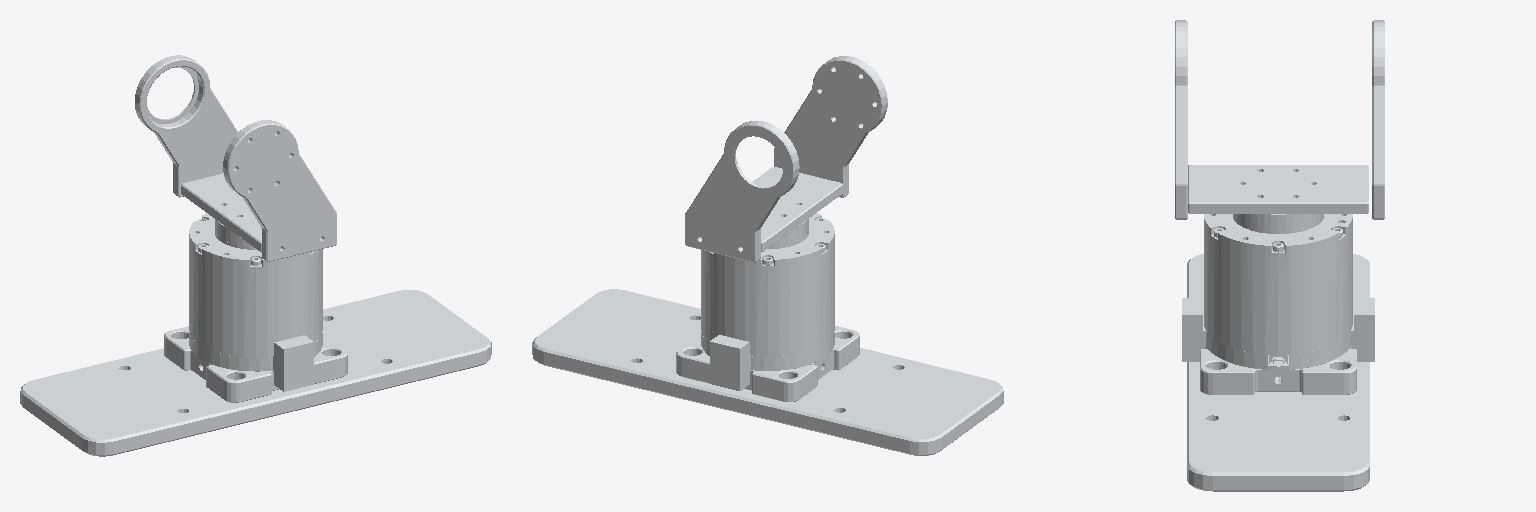
URDF robot description (STEP):
<?xml version="1.0" encoding="utf-8"?>
<!-- This URDF was automatically created by SolidWorks to URDF Exporter! Originally created by [author] ([email redacted]) 
     Commit Version: 1.6.0-1-g15f4949  Build Version: 1.6.7594.29634
     For more information, please see http://wiki.ros.org/sw_urdf_exporter -->
<robot
  name="STEP">
  <link
    name="base_link">
    <inertial>
      <origin
        xyz="-2.286E-05 2.7497E-09 0.01623"
        rpy="0 0 0" />
      <mass
        value="0.50446" />
      <inertia
        ixx="0.00018822"
        ixy="1.8597E-08"
        ixz="-1.3884E-08"
        iyy="0.0010487"
        iyz="5.2358E-12"
        izz="0.0011932" />
    </inertial>
    <visual>
      <origin
        xyz="0 0 0"
        rpy="0 0 0" />
      <geometry>
        <mesh
          filename="package://openeai_arm_urdf_ros2/meshes/base_link.STL" />
      </geometry>
      <material
        name="openeai">
        <color
          rgba="0.89804 0.91765 0.92941 1" />
      </material>
    </visual>
    <collision>
      <origin
        xyz="0 0 0"
        rpy="0 0 0" />
      <geometry>
        <mesh
          filename="package://openeai_arm_urdf_ros2/meshes/base_link.STL" />
      </geometry>
    </collision>
  </link>
  <link
    name="link1">
    <inertial>
      <origin
        xyz="-0.0045469 -0.0028108 -0.030271"
        rpy="0 0 0" />
      <mass
        value="0.419464" />
      <inertia
        ixx="2.8404E-05"
        ixy="1.2197E-08"
        ixz="6.0756E-06"
        iyy="2.686E-05"
        iyz="-2.1814E-08"
        izz="2.493E-05" />
    </inertial>
    <visual>
      <origin
        xyz="0 0 0"
        rpy="0 0 0" />
      <geometry>
        <mesh
          filename="package://openeai_arm_urdf_ros2/meshes/link1.STL" />
      </geometry>
      <material
        name="openeai1">
        <color
          rgba="0.89804 0.91765 0.92941 1" />
      </material>
    </visual>
    <collision>
      <origin
        xyz="0 0 0"
        rpy="0 0 0" />
      <geometry>
        <mesh
          filename="package://openeai_arm_urdf_ros2/meshes/link1.STL" />
      </geometry>
    </collision>
  </link>
  <joint
    name="1"
    type="revolute">
    <origin
      xyz="0 0 0.12371"
      rpy="0 0 0" />
    <parent
      link="base_link" />
    <child
      link="link1" />
    <axis
      xyz="0 0 1" />
    <limit
      lower="-1.57"
      upper="1.57"
      effort="0"
      velocity="0" />
  </joint>
  <link
    name="link2">
    <inertial>
      <origin
        xyz="0.13073 1.5099E-12 0.0027189"
        rpy="0 0 0" />
      <mass
        value="1.5389" />
      <inertia
        ixx="0.00021808"
        ixy="3.8197E-08"
        ixz="-6.9356E-19"
        iyy="0.0010335"
        iyz="-8.1073E-16"
        izz="0.0011036" />
    </inertial>
    <visual>
      <origin
        xyz="0 0 0"
        rpy="0 0 0" />
      <geometry>
        <mesh
          filename="package://openeai_arm_urdf_ros2/meshes/link2.STL" />
      </geometry>
      <material
        name="openeai2">
        <color
          rgba="0.7451 0.7451 0.7451 1" />
      </material>
    </visual>
    <collision>
      <origin
        xyz="0 0 0"
        rpy="0 0 0" />
      <geometry>
        <mesh
          filename="package://openeai_arm_urdf_ros2/meshes/link2.STL" />
      </geometry>
    </collision>
  </link>
  <joint
    name="2"
    type="revolute">
    <origin
      xyz="-0.019 0 0"
      rpy="1.5708 0 3.1416" />
    <parent
      link="link1" />
    <child
      link="link2" />
    <axis
      xyz="0 0 1" />
    <limit
      lower="-0.2"
      upper="3.662"
      effort="0"
      velocity="0" />
  </joint>
  <link
    name="link3">
    <inertial>
      <origin
        xyz="0.1657 0.017535 -0.0016971"
        rpy="0 0 0" />
      <mass
        value="1.01598" />
      <inertia
        ixx="0.00028128"
        ixy="0.00016388"
        ixz="-1.4389E-06"
        iyy="0.00089643"
        iyz="3.8117E-07"
        izz="0.0010603" />
    </inertial>
    <visual>
      <origin
        xyz="0 0 0"
        rpy="0 0 0" />
      <geometry>
        <mesh
          filename="package://openeai_arm_urdf_ros2/meshes/link3.STL" />
      </geometry>
      <material
        name="openeai3">
        <color
          rgba="0.7451 0.7451 0.7451 1" />
      </material>
    </visual>
    <collision>
      <origin
        xyz="0 0 0"
        rpy="0 0 0" />
      <geometry>
        <mesh
          filename="package://openeai_arm_urdf_ros2/meshes/link3.STL" />
      </geometry>
    </collision>
  </link>
  <joint
    name="3"
    type="revolute">
    <origin
      xyz="0.264 0 0"
      rpy="3.1416 0 2.8783" />
    <parent
      link="link2" />
    <child
      link="link3" />
    <axis
      xyz="0 0 1" />
    <limit
      lower="-0.1"
      upper="3.1416"
      effort="0"
      velocity="0" />
  </joint>
  <link
    name="link4">
    <inertial>
      <origin
        xyz="0.052533 0.038815 -0.041806"
        rpy="0 0 0" />
      <mass
        value="0.53515" />
      <inertia
        ixx="7.9691E-05"
        ixy="2.9447E-10"
        ixz="-4.225E-08"
        iyy="9.4211E-05"
        iyz="-6.849E-08"
        izz="6.8988E-05" />
    </inertial>
    <visual>
      <origin
        xyz="0 0 0"
        rpy="0 0 0" />
      <geometry>
        <mesh
          filename="package://openeai_arm_urdf_ros2/meshes/link4.STL" />
      </geometry>
      <material
        name="openeai4">
        <color
          rgba="0.89804 0.91765 0.92941 1" />
      </material>
    </visual>
    <collision>
      <origin
        xyz="0 0 0"
        rpy="0 0 0" />
      <geometry>
        <mesh
          filename="package://openeai_arm_urdf_ros2/meshes/link4.STL" />
      </geometry>
    </collision>
  </link>
  <joint
    name="4"
    type="revolute">
    <origin
      xyz="0.23148 0 0"
      rpy="0 0 -0.26332" />
    <parent
      link="link3" />
    <child
      link="link4" />
    <axis
      xyz="0 0 1" />
    <limit
      lower="-1.5708"
      upper="1.5708"
      effort="0"
      velocity="0" />
  </joint>
  <link
    name="link5">
    <inertial>
      <origin
        xyz="1.0201E-05 -0.016598 -0.0033441"
        rpy="0 0 0" />
      <mass
        value="0.46797" />
      <inertia
        ixx="4.8034E-05"
        ixy="6.849E-08"
        ixz="2.7193E-08"
        iyy="6.7289E-05"
        iyz="2.9447E-10"
        izz="4.812E-05" />
    </inertial>
    <visual>
      <origin
        xyz="0 0 0"
        rpy="0 0 0" />
      <geometry>
        <mesh
          filename="package://openeai_arm_urdf_ros2/meshes/link5.STL" />
      </geometry>
      <material
        name="openeai5">
        <color
          rgba="1 1 1 1" />
      </material>
    </visual>
    <collision>
      <origin
        xyz="0 0 0"
        rpy="0 0 0" />
      <geometry>
        <mesh
          filename="package://openeai_arm_urdf_ros2/meshes/link5.STL" />
      </geometry>
    </collision>
  </link>
  <joint
    name="5"
    type="revolute">
    <origin
      xyz="0.075 -0.0015 -0.0015"
      rpy="1.5708 -1.5708 0" />
    <parent
      link="link4" />
    <child
      link="link5" />
    <axis
      xyz="0 0 1" />
    <limit
      lower="-1.5708"
      upper="1.5708"
      effort="0"
      velocity="0" />
  </joint>
  <link
    name="link6">
    <inertial>
      <origin
        xyz="-3.4881E-05 0.014495 0.054359"
        rpy="0 0 0" />
      <mass
        value="0.63362" />
      <inertia
        ixx="0.00020137"
        ixy="9.5443E-08"
        ixz="6.8488E-08"
        iyy="0.00016983"
        iyz="-3.2415E-06"
        izz="0.00025638" />
    </inertial>
    <visual>
      <origin
        xyz="0 0 0"
        rpy="0 0 0" />
      <geometry>
        <mesh
          filename="package://openeai_arm_urdf_ros2/meshes/link6.STL" />
      </geometry>
      <material
        name="openeai6">
        <color
          rgba="1 1 1 1" />
      </material>
    </visual>
    <collision>
      <origin
        xyz="0 0 0"
        rpy="0 0 0" />
      <geometry>
        <mesh
          filename="package://openeai_arm_urdf_ros2/meshes/link6.STL" />
      </geometry>
    </collision>
  </link>
  <joint
    name="6"
    type="revolute">
    <origin
      xyz="0 -0.036 0"
      rpy="1.5708 0 0" />
    <parent
      link="link5" />
    <child
      link="link6" />
    <axis
      xyz="0 0 1" />
    <limit
      lower="-3.1416"
      upper="3.1416"
      effort="0"
      velocity="0" />
  </joint>
</robot>

--- Facts derived from the render (not from the file) ---
The picture shows the robot from 3 angles, left to right: view 1: azimuth 30°, elevation 25°; view 2: azimuth 150°, elevation 25°; view 3: azimuth 270°, elevation 25°; orthographic projection.
Model STEP with 7 links and 6 joints (6 revolute), rooted at base_link, posed all joints at 0.
Links seen in each view (by area): view 1: base_link, link1; view 2: base_link, link1; view 3: base_link, link1.
Boxes of the visible links, x1,y1,x2,y2 form: base_link: (20, 213, 491, 456); link1: (135, 55, 336, 261); base_link: (532, 213, 1003, 455); link1: (685, 56, 887, 262); base_link: (1182, 214, 1374, 491); link1: (1175, 20, 1384, 230).
Bounding box of the posed robot: 0.2 × 0.0803 × 0.1411 m (x, y, z).
Meshes: 7 distinct files referenced, 2 mesh visuals loaded (2 binary STL); not drawn: 5 (file found but could not be loaded).